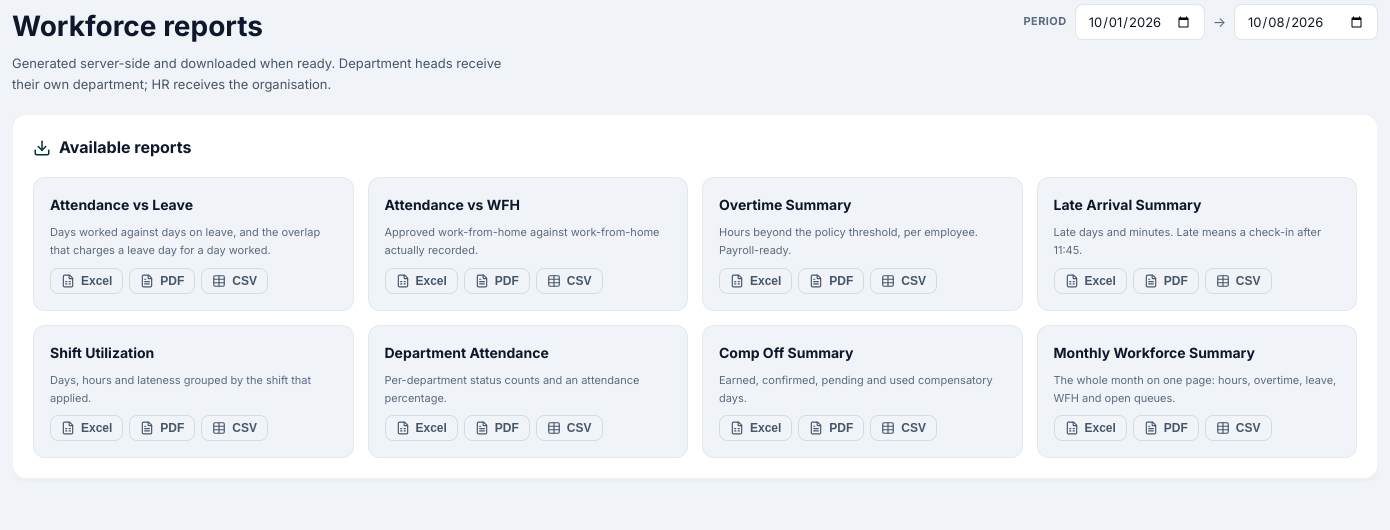
Test case: Workforce report center › surfaces a request error
Click the button "CSV" below "Attendance vs Leave": x=235, y=281 [201, 268, 268, 294]
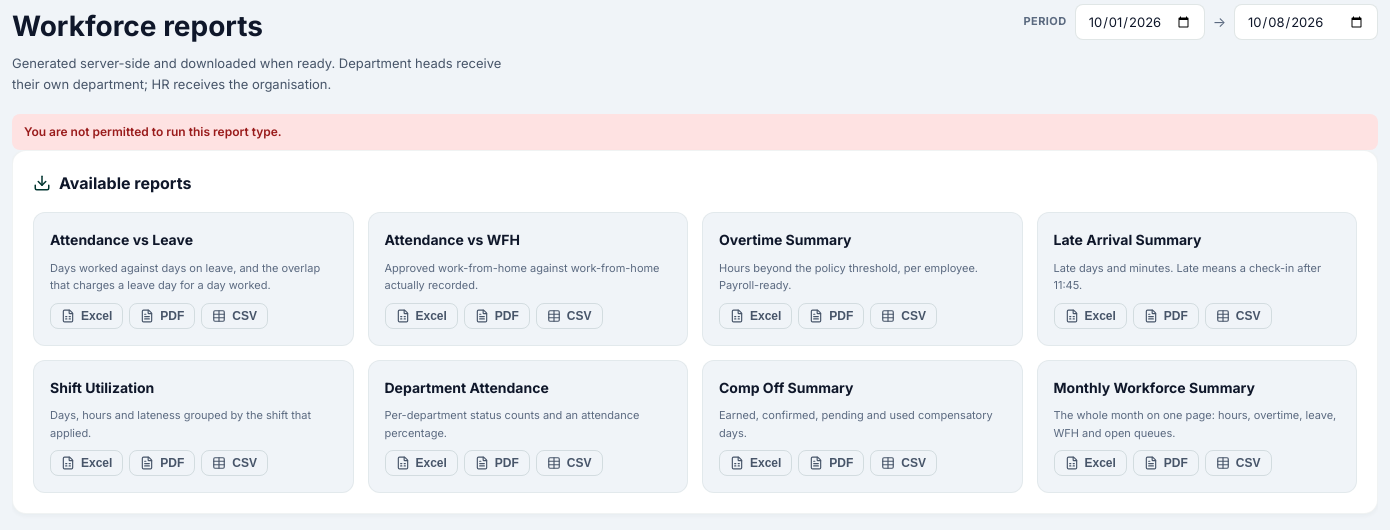
Result: the text "You are not permitted to run this report type." is shown at [12, 114, 1378, 150]
